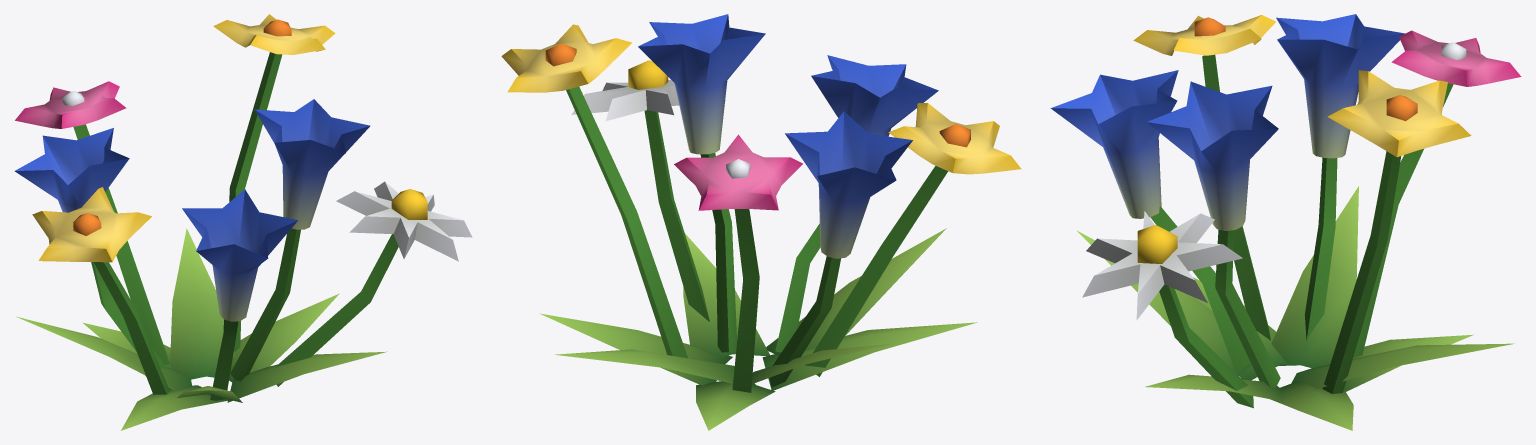
The model's file is alpine_flowers.glb.
3 views of the same model, side by side, from view 1: azimuth 30°, elevation 25°; view 2: azimuth 150°, elevation 25°; view 3: azimuth 270°, elevation 25° (orthographic). The views are drawn at different scales.
Parts seen in each view (by area): view 1: alpine_flowers; view 2: alpine_flowers; view 3: alpine_flowers.
Boxes of the visible parts, x1,y1,x2,y2 form: alpine_flowers: (14,14,472,430); alpine_flowers: (501,14,1021,430); alpine_flowers: (1050,14,1521,430).
Size of the model in its own units: 0.3221 by 0.2317 by 0.2766.
